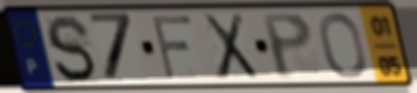7: (86, 11, 137, 86)
F: (149, 13, 196, 83)
O: (317, 11, 369, 80)
P: (259, 11, 316, 82)
S: (43, 13, 99, 85)
X: (199, 11, 261, 83)
